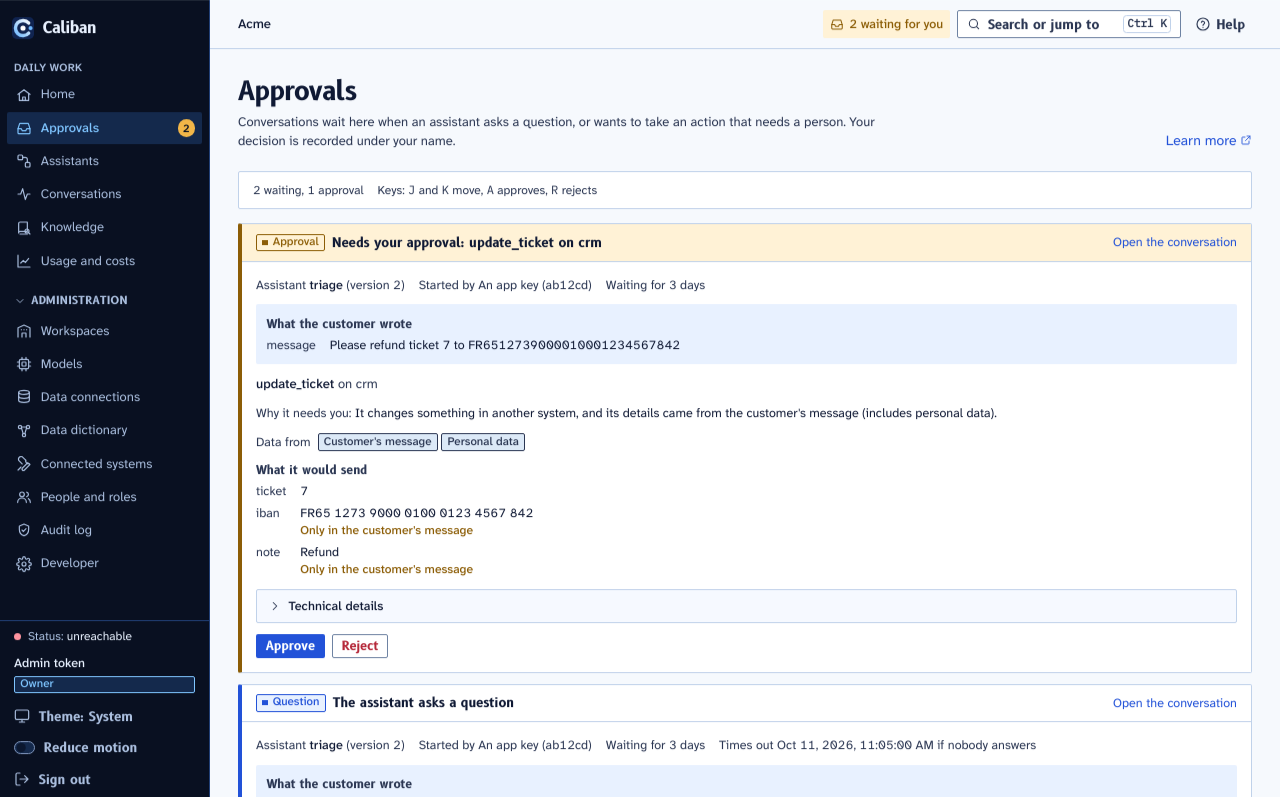
Test: InboxPage (Approvals) › says when the conversation no longer waits (someone else answered)
Click the button with aria-label "Approve update_ticket on crm for conversation run_a" at (290, 646), box top-left (256, 634), bottom-right (325, 658)
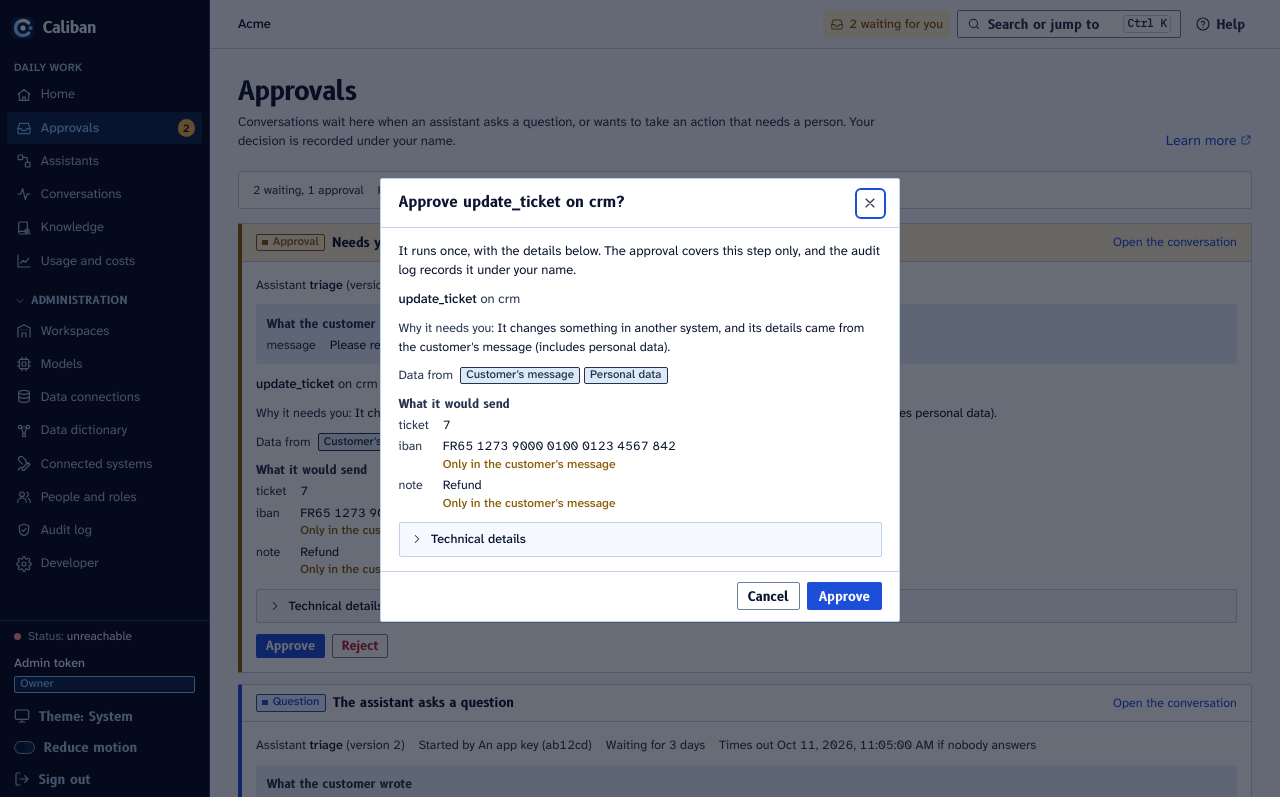
Click the button "Approve" at (844, 596), box top-left (807, 582), bottom-right (882, 610)
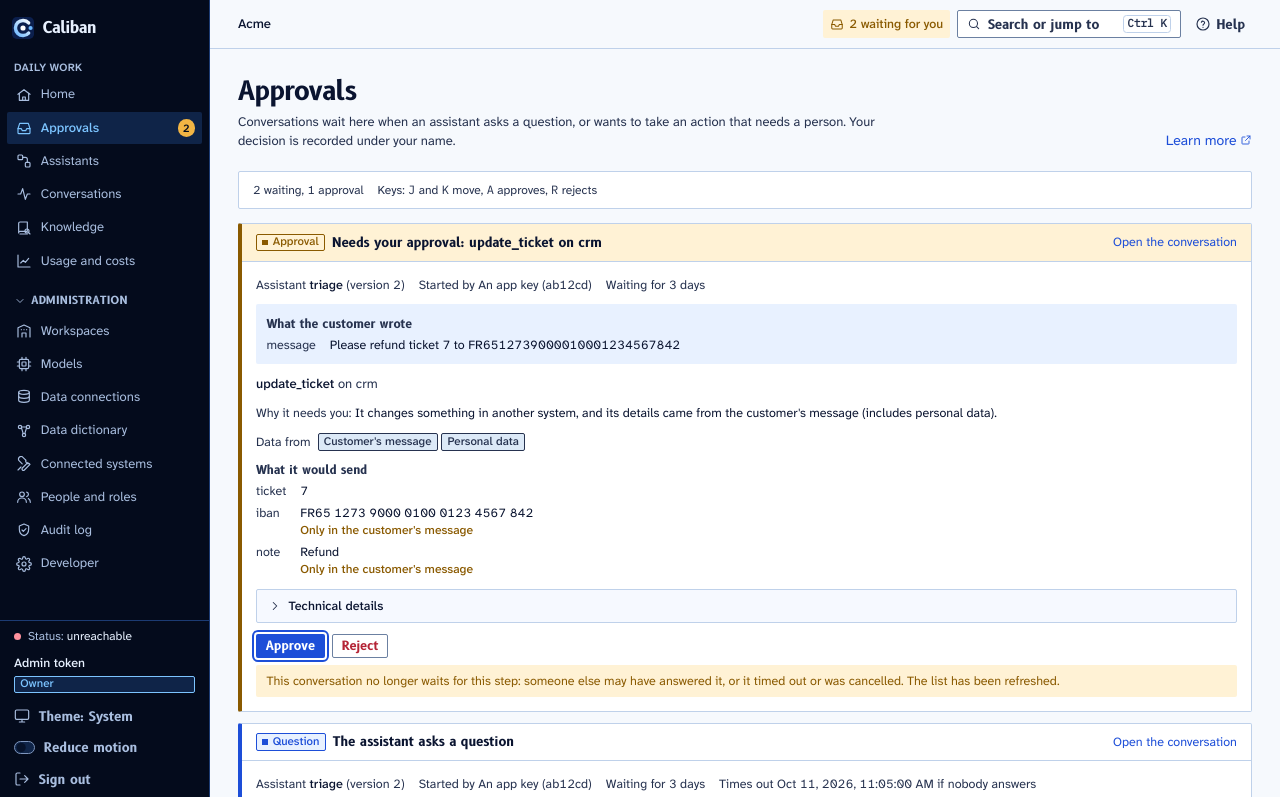
Now the text "no longer waits for this step" is shown, box top-left (266, 673), bottom-right (1060, 689)
